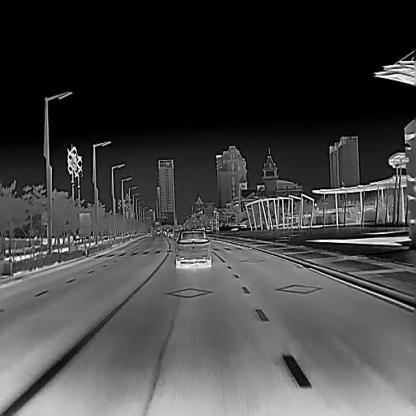car: (174, 228, 213, 268), (167, 228, 174, 238), (145, 231, 152, 237), (155, 228, 160, 235)
